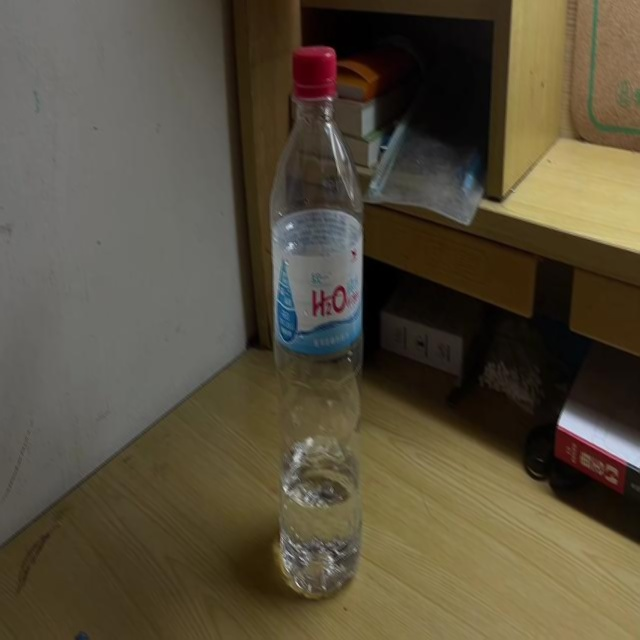Water: (270, 49, 366, 598)
